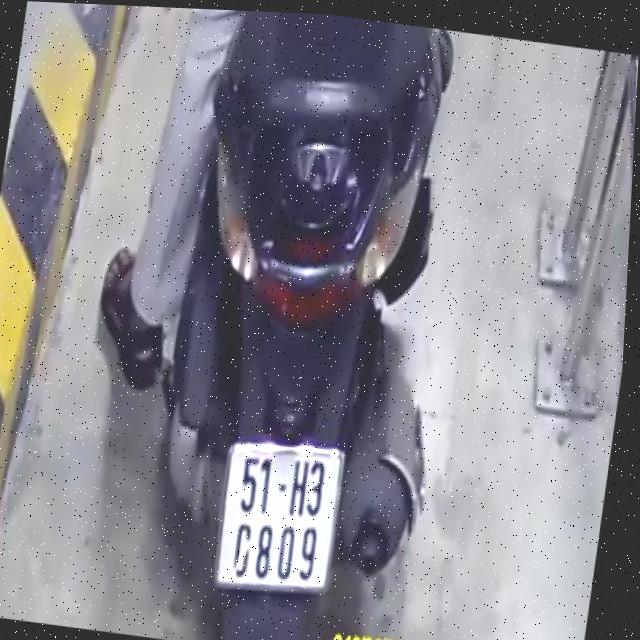motorcycle: (111, 6, 498, 640)
plate: (208, 434, 355, 600)
